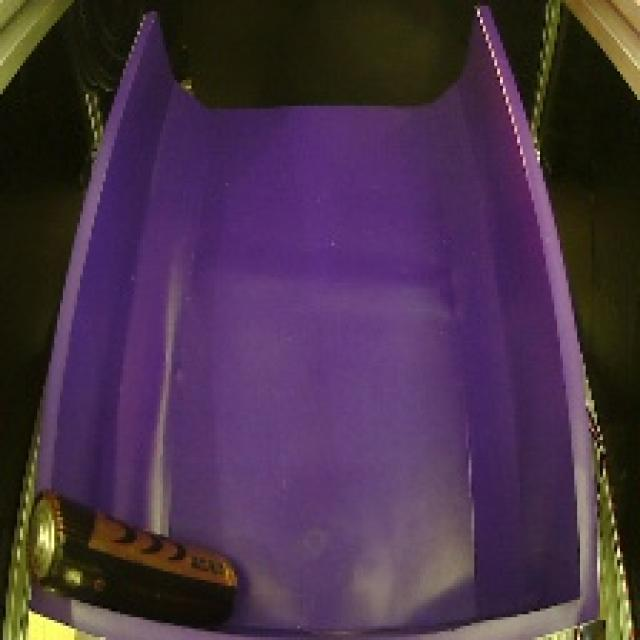battery: (17, 480, 260, 636)
